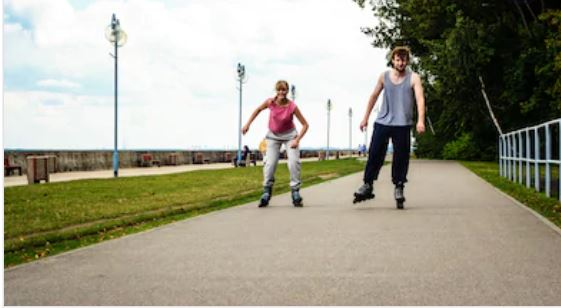Caution: (240, 41, 426, 213)
